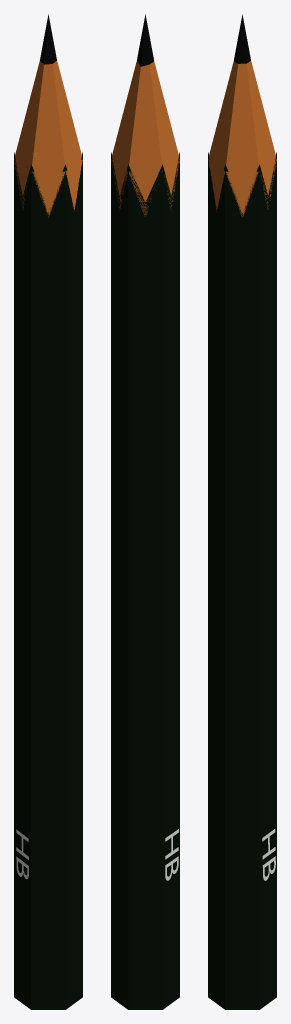
Rendered from enpitu.obj.
The picture shows the model from 3 angles, left to right: view 1: azimuth 30°, elevation 25°; view 2: azimuth 150°, elevation 25°; view 3: azimuth 330°, elevation 25°; orthographic projection.
Parts seen in each view (by area): view 1: 円柱, 円柱.004, 円柱.003, テキスト.001; view 2: 円柱, 円柱.004, 円柱.003, テキスト.001; view 3: 円柱, 円柱.004, 円柱.003, テキスト.
Part boxes in pixels (left/top/right/bottom): 円柱: left=14, top=152, right=82, bottom=1009; 円柱.004: left=14, top=61, right=82, bottom=216; 円柱.003: left=40, top=14, right=56, bottom=64; テキスト.001: left=16, top=829, right=28, bottom=879; 円柱: left=111, top=152, right=179, bottom=1009; 円柱.004: left=111, top=61, right=179, bottom=216; 円柱.003: left=137, top=14, right=153, bottom=66; テキスト.001: left=165, top=829, right=178, bottom=880; 円柱: left=208, top=152, right=276, bottom=1009; 円柱.004: left=208, top=61, right=276, bottom=216; 円柱.003: left=234, top=14, right=250, bottom=63; テキスト: left=262, top=829, right=275, bottom=880.
Size of the model in its own units: 0.1663 by 2.94 by 0.1864.
